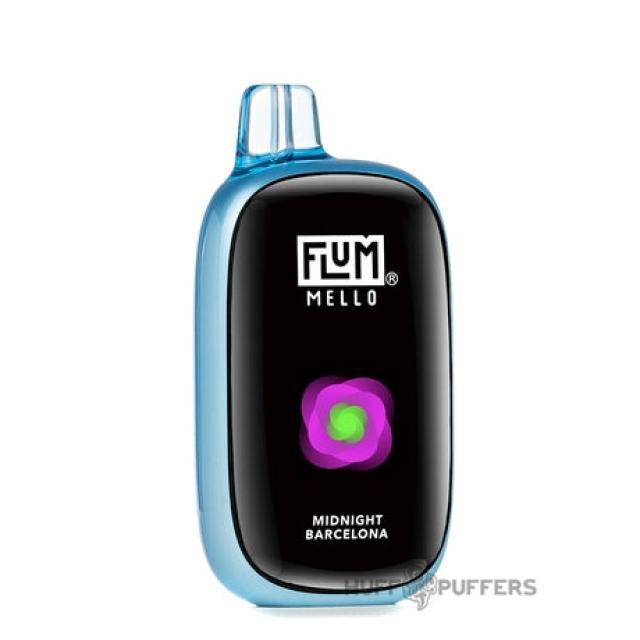Hazard: (192, 82, 454, 608)
